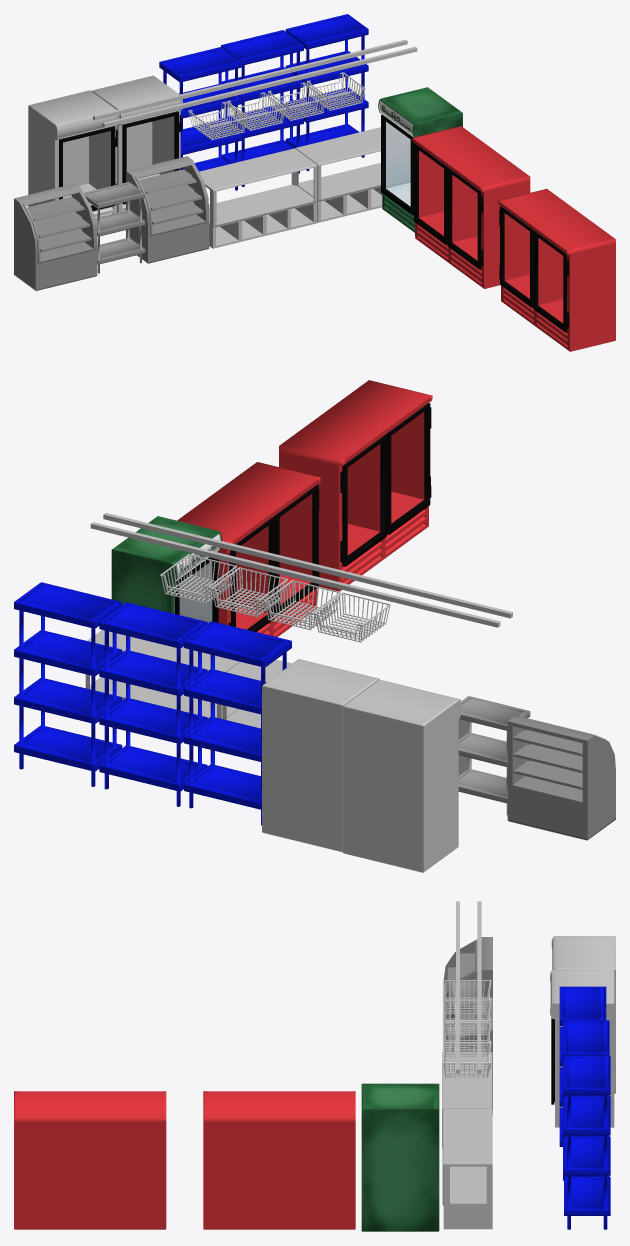
The model's file is SM_Furniture.fbx.
3 views of the same model, one above another, from view 1: azimuth 30°, elevation 25°; view 2: azimuth 150°, elevation 25°; view 3: azimuth 270°, elevation 25° (orthographic). The views are drawn at different scales.
Visible parts, largest first — view 1: camaraCocaCola.001, camaraCocaCola, camarafriagenerica.001, prop_neveracarnes.001, estanteriaGalletas.001, prop_neveracarnes, camarafriadospinos, camarafriagenerica, estante_pasta_roma_01.002, estanteriaGalletas, estante_pasta_roma_01, estante_pasta_roma_01.001 (+7 smaller); view 2: camaraCocaCola.001, camarafriagenerica.001, camarafriagenerica, camaraCocaCola, estante_pasta_roma_01.002, estante_pasta_roma_01, prop_neveracarnes.001, estante_pasta_roma_01.001, camarafriadospinos, estante_pasta_roma_01.003, estanteriaGalletas, Cube.005 (+6 smaller); view 3: camaraCocaCola, camaraCocaCola.001, camarafriadospinos, estante_pasta_roma_01.002, estanteriaGalletas, camarafriagenerica, estanteriaGalletas.001, camarafriagenerica.001, estante_pasta_roma_01.001, estante_pasta_roma_01, prop_neveracarnes.001, prop_neveracarnes (+7 smaller).
Boxes of the visible parts, left/top/right/bottom form: camaraCocaCola.001: left=498, top=189, right=615, bottom=351; camaraCocaCola: left=412, top=126, right=530, bottom=288; camarafriagenerica.001: left=28, top=90, right=119, bottom=217; prop_neveracarnes.001: left=14, top=183, right=97, bottom=290; estanteriaGalletas.001: left=199, top=148, right=317, bottom=248; prop_neveracarnes: left=126, top=156, right=209, bottom=263; camarafriadospinos: left=378, top=87, right=462, bottom=232; camarafriagenerica: left=91, top=75, right=182, bottom=212; estante_pasta_roma_01.002: left=285, top=14, right=368, bottom=171; estanteriaGalletas: left=295, top=127, right=382, bottom=222; estante_pasta_roma_01: left=221, top=30, right=303, bottom=186; estante_pasta_roma_01.001: left=159, top=47, right=242, bottom=190; camaraCocaCola.001: left=279, top=380, right=432, bottom=591; camarafriagenerica.001: left=343, top=679, right=461, bottom=872; camarafriagenerica: left=262, top=659, right=379, bottom=852; camaraCocaCola: left=177, top=462, right=320, bottom=637; estante_pasta_roma_01.002: left=14, top=582, right=122, bottom=786; estante_pasta_roma_01: left=99, top=602, right=207, bottom=806; prop_neveracarnes.001: left=507, top=716, right=615, bottom=840; estante_pasta_roma_01.001: left=184, top=621, right=291, bottom=825; camarafriadospinos: left=111, top=516, right=222, bottom=622; estante_pasta_roma_01.003: left=458, top=696, right=530, bottom=815; estanteriaGalletas: left=85, top=630, right=239, bottom=742; Cube.005: left=90, top=522, right=500, bottom=627; camaraCocaCola: left=203, top=1091, right=355, bottom=1229; camaraCocaCola.001: left=14, top=1091, right=166, bottom=1229; camarafriadospinos: left=361, top=1083, right=439, bottom=1231; estante_pasta_roma_01.002: left=564, top=1055, right=610, bottom=1229; estanteriaGalletas: left=442, top=1108, right=492, bottom=1229; camarafriagenerica: left=550, top=969, right=614, bottom=1127; estanteriaGalletas.001: left=442, top=1052, right=492, bottom=1148; camarafriagenerica.001: left=551, top=936, right=615, bottom=1093; estante_pasta_roma_01.001: left=559, top=986, right=606, bottom=1146; estante_pasta_roma_01: left=563, top=1020, right=609, bottom=1180; prop_neveracarnes.001: left=443, top=937, right=492, bottom=1019; prop_neveracarnes: left=446, top=997, right=492, bottom=1114.
Bounding box in the file's own units: 1171 × 421 × 1421.
